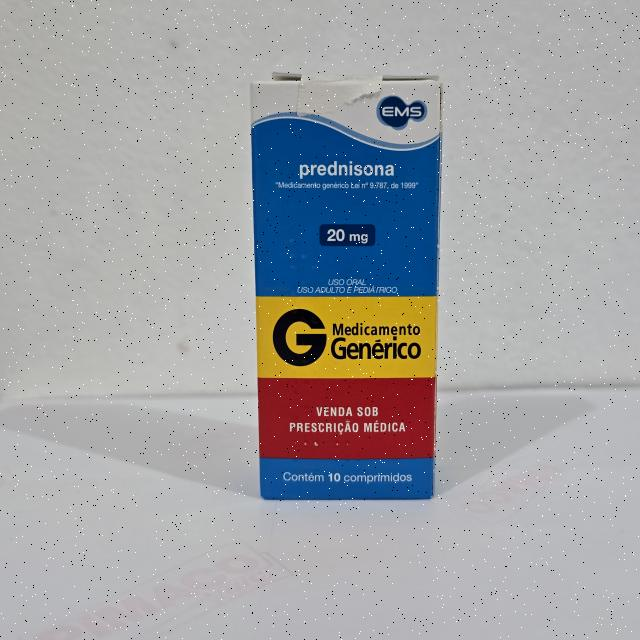prednisona: (245, 66, 448, 506)
